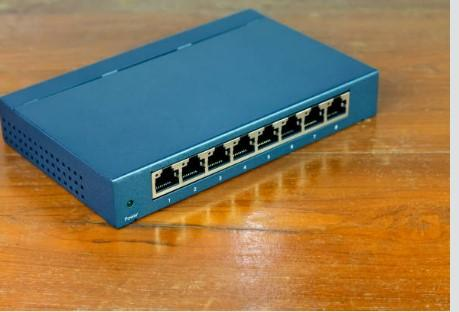NetworkSwitch: (0, 9, 380, 230)
